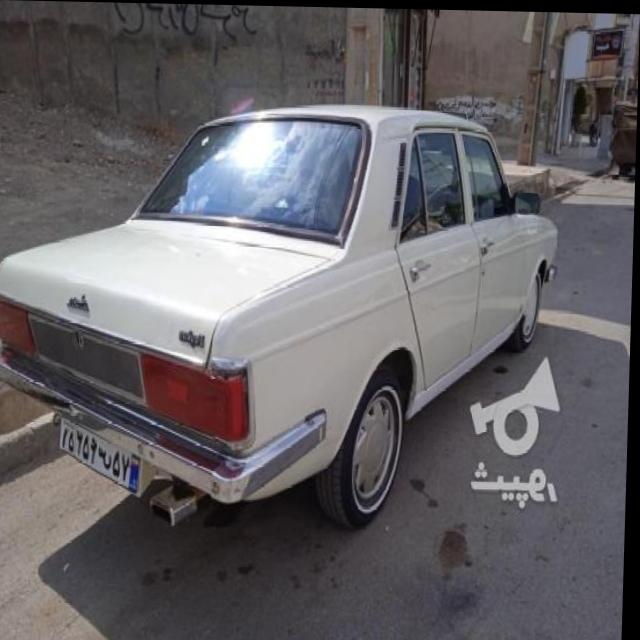licence: (61, 412, 148, 494)
